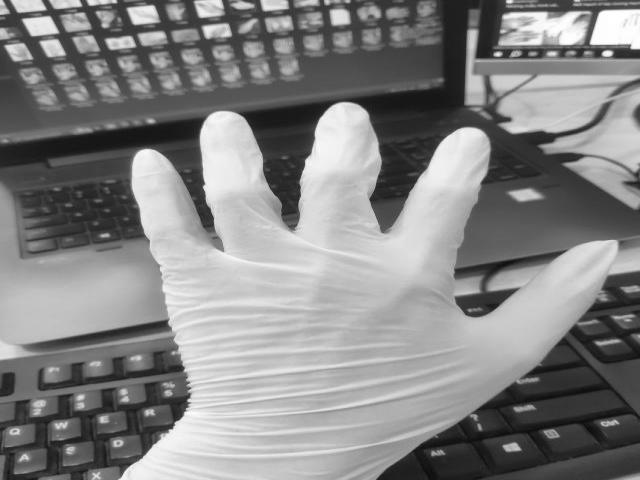gloved: (120, 101, 609, 480)
